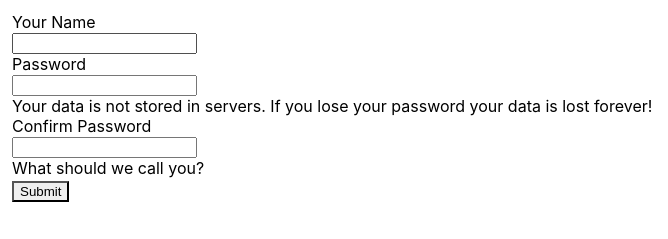
Scenario: Basic form › Should display correct error message
This screenshot has width=668, height=239.
Expected: the text "Error message" is not shown
Type "notvalid" into the field labelled "Your Name" at point(104, 44), box [12,33,197,54]
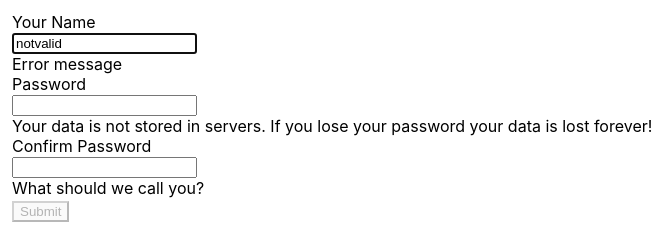
Expected: the text "Error message" is shown, [12,54,122,74]
